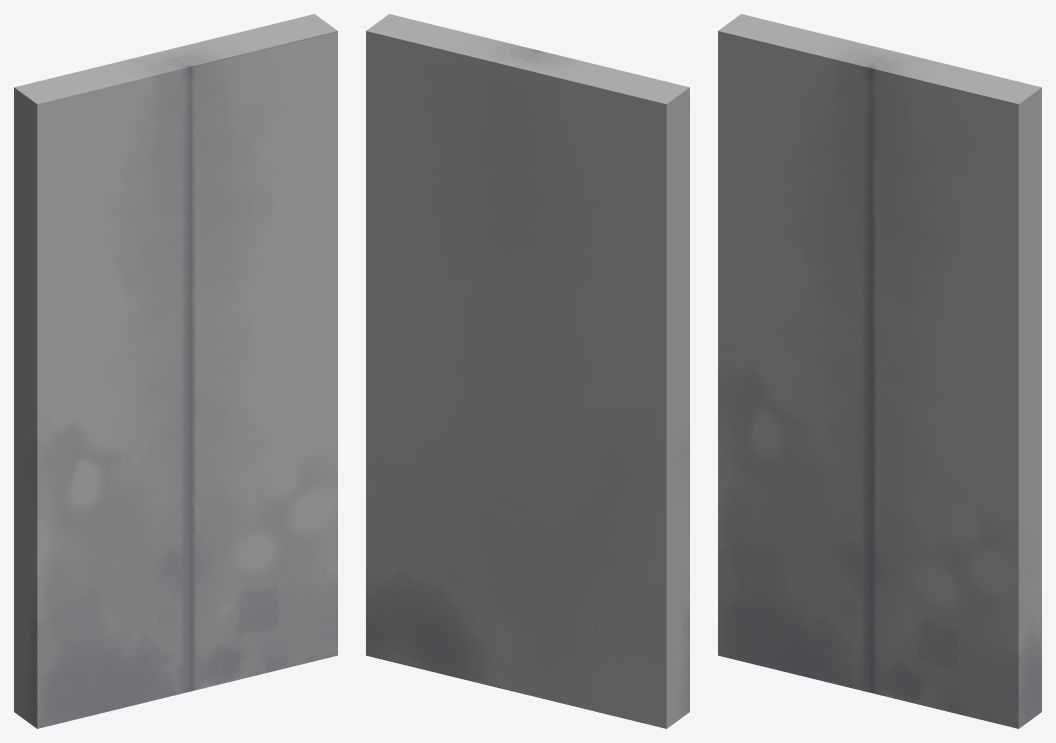
The model's file is elevator_door.fbx.
3 views of the same model, side by side, from view 1: azimuth 30°, elevation 25°; view 2: azimuth 150°, elevation 25°; view 3: azimuth 330°, elevation 25° (orthographic).
Visible parts, largest first — view 1: elevator_doors; view 2: elevator_doors; view 3: elevator_doors.
Boxes of the visible parts, x1,y1,x2,y2 form: elevator_doors: [14, 14, 337, 728]; elevator_doors: [366, 14, 689, 728]; elevator_doors: [718, 14, 1041, 728].
Size of the model in its own units: 84.34 by 167 by 11.27.
